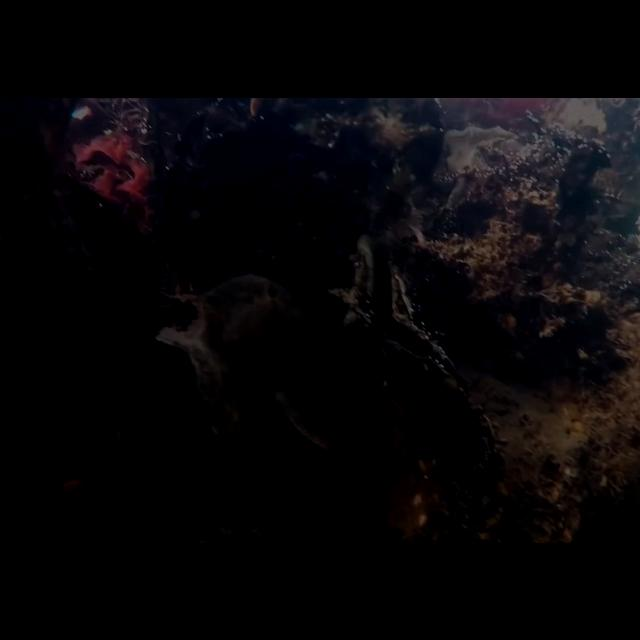Oyster-Closed: (196, 272, 372, 456)
Oyster-Open: (329, 233, 471, 399)
